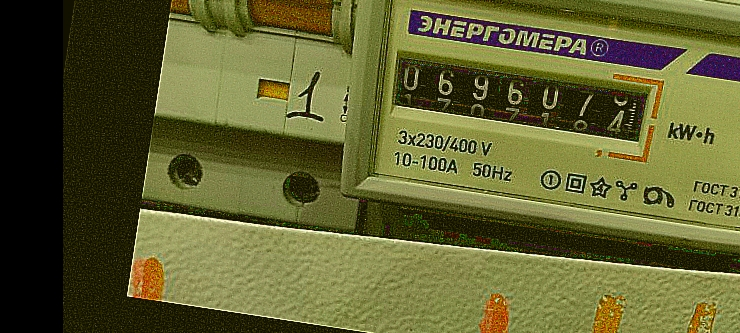0: (399, 60, 424, 93), (539, 81, 563, 112)
4: (603, 105, 627, 137)
6: (504, 75, 528, 109), (435, 66, 458, 97)
7: (574, 85, 596, 118)
9: (469, 71, 493, 103)
screen: (376, 32, 669, 165)
